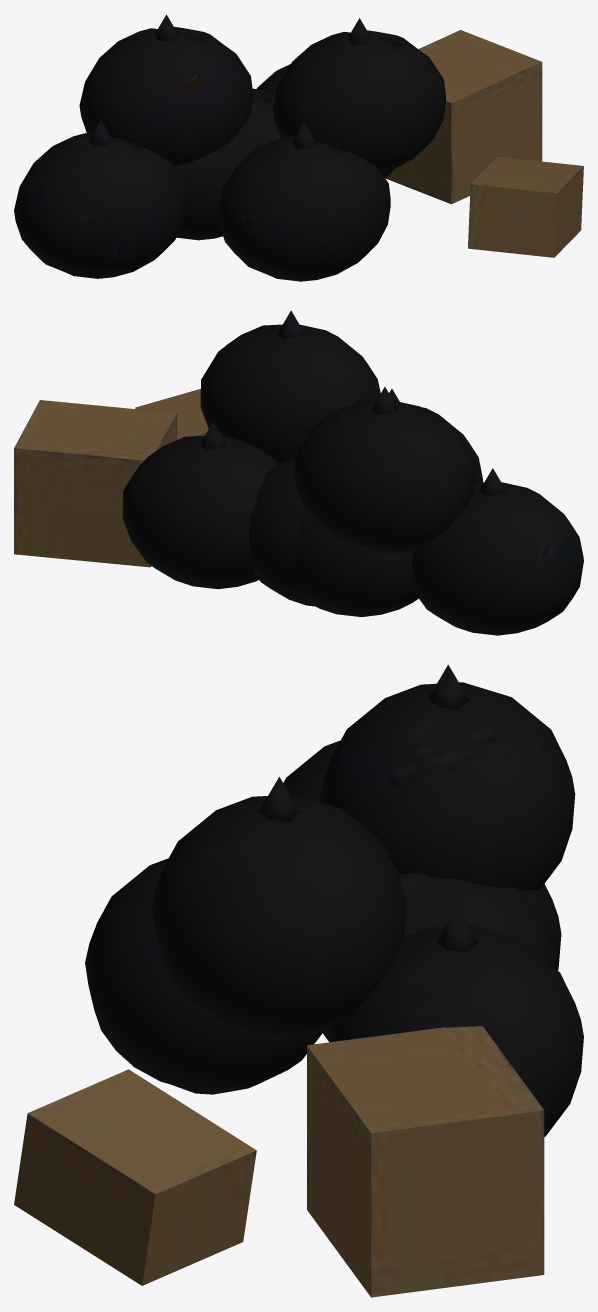
The model's file is trashbags.glb.
3 views of the same model, one above another, from view 1: azimuth 30°, elevation 25°; view 2: azimuth 150°, elevation 25°; view 3: azimuth 270°, elevation 25° (orthographic). The views are drawn at different scales.
Parts seen in each view (by area): view 1: Main; view 2: Main; view 3: Main.
Boxes of the visible parts, <box> form: Main: <box>14,14,583,281</box>; Main: <box>14,310,583,635</box>; Main: <box>14,664,583,1297</box>.
Size of the model in its own units: 2.66 by 1.12 by 1.57.
1 material, 1 textured.
